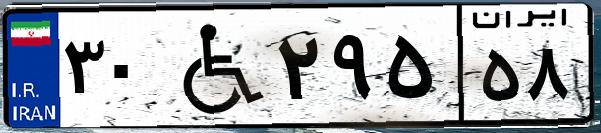0: (110, 28, 158, 98)
2: (270, 28, 330, 110)
3: (57, 26, 110, 100)
5: (385, 28, 445, 110), (475, 38, 525, 113)
8: (525, 38, 570, 115)
9: (330, 28, 385, 110)
ژ (معلولین و جانبازان): (158, 12, 270, 120)
